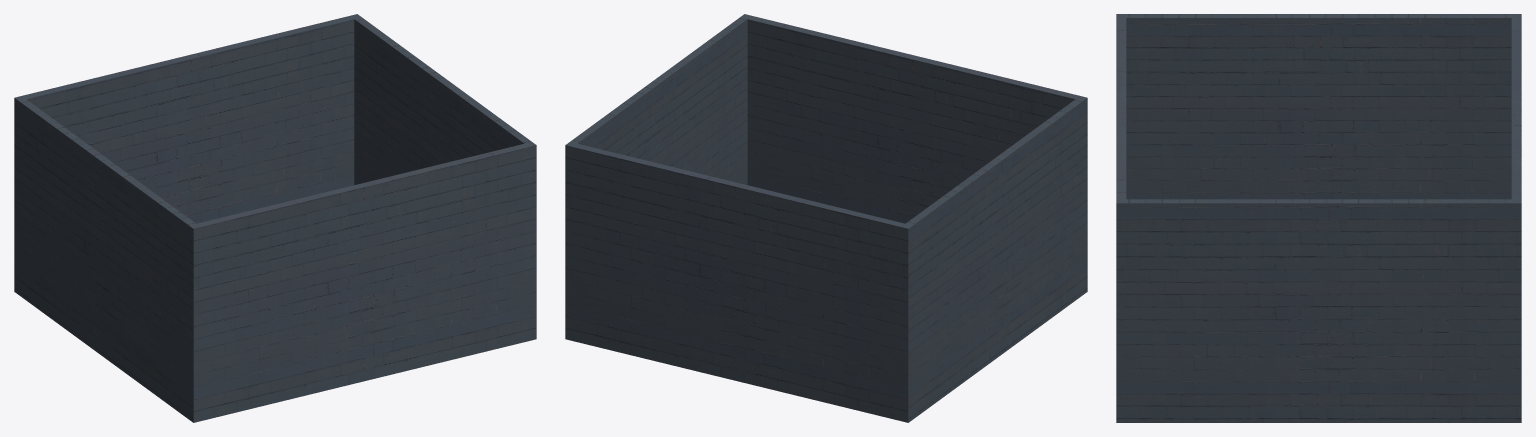
Rendered from interrogation_room.FBX.
3 renders of one model, left to right at view 1: azimuth 30°, elevation 25°; view 2: azimuth 150°, elevation 25°; view 3: azimuth 270°, elevation 25°, orthographic. The views are drawn at different scales.
Parts seen in each view (by area): view 1: interrogation_walls; view 2: interrogation_walls; view 3: interrogation_walls.
Part boxes in pixels (x1,y1,x2,y2): interrogation_walls: [14, 14, 536, 422]; interrogation_walls: [565, 14, 1087, 422]; interrogation_walls: [1116, 14, 1521, 422].
Size of the model in its own units: 403 by 218 by 365.
